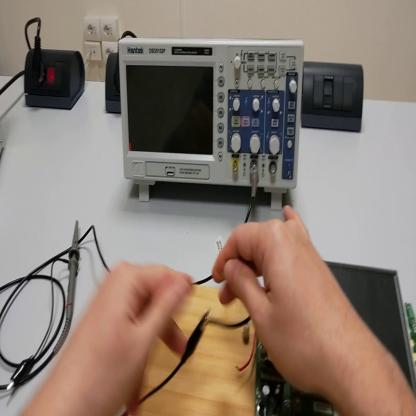hand: (212, 208, 353, 395), (55, 260, 196, 416)
low voltage board: (193, 258, 416, 414)
oscilloscope: (122, 43, 306, 203)
oscilloscope probe tip: (54, 218, 80, 355)
socket: (26, 48, 87, 112), (107, 53, 122, 115)
working area: (136, 281, 261, 411)
